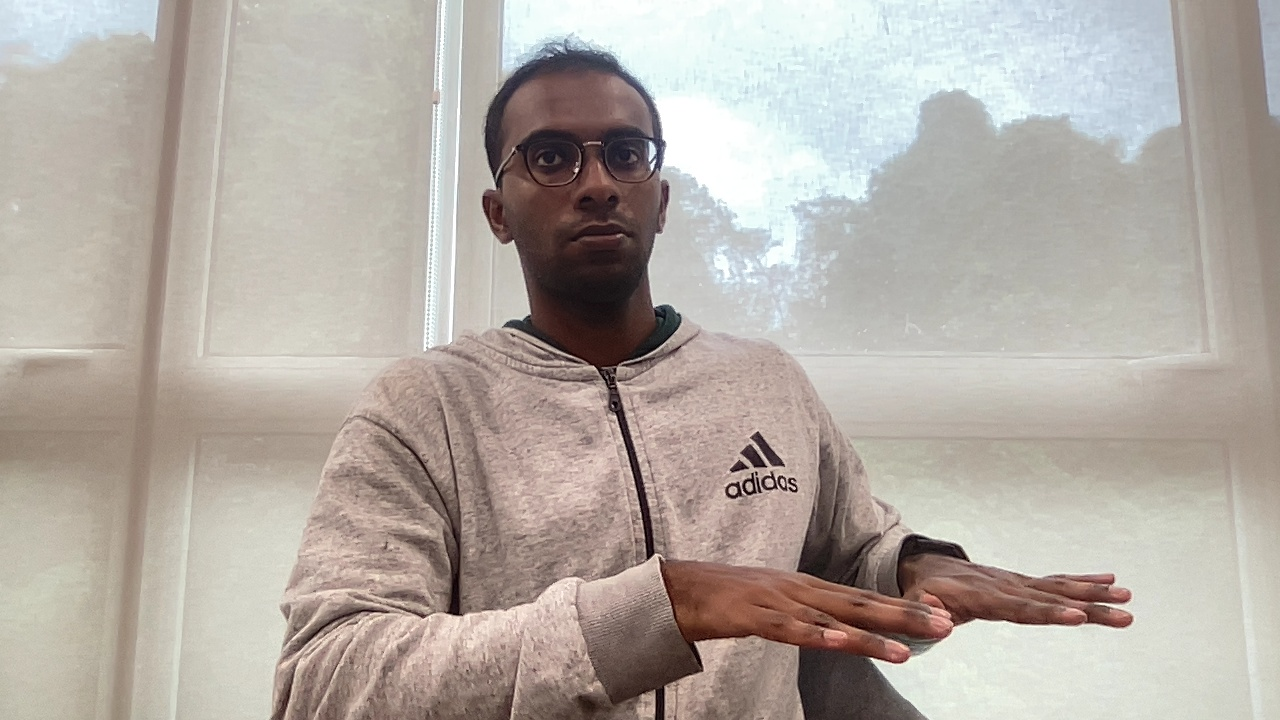finish: (668, 538, 1159, 670)
